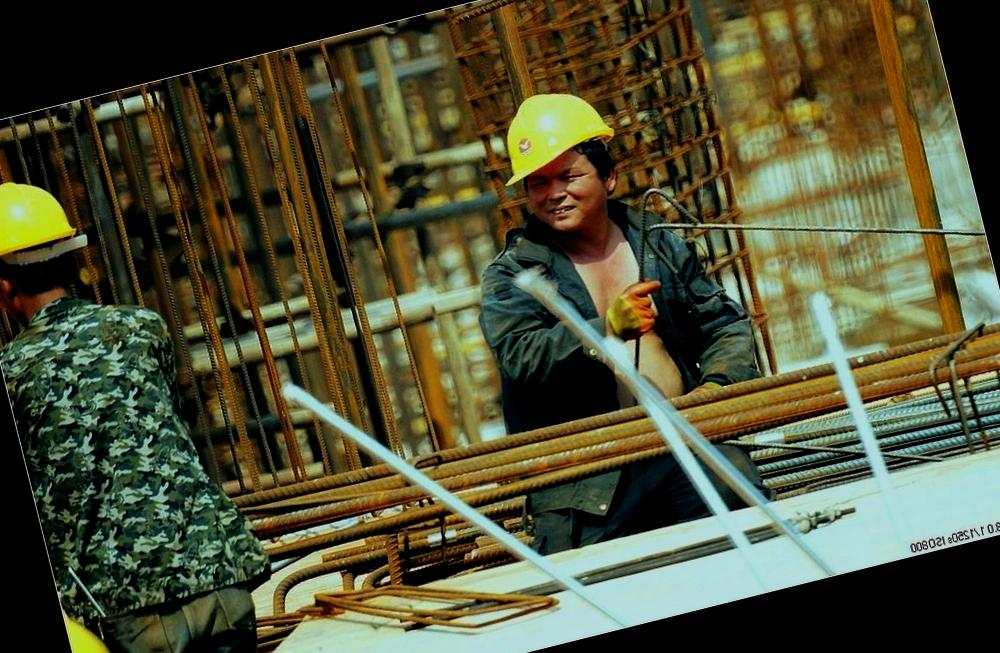helmet: (478, 80, 615, 176), (0, 169, 85, 269)
no_vest: (436, 175, 750, 428), (0, 286, 194, 532)
person: (0, 123, 308, 653), (429, 39, 772, 444)
